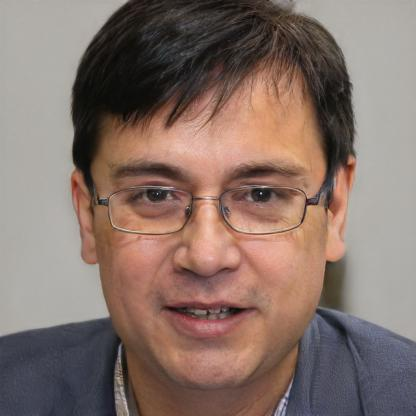glasses: (99, 176, 324, 238)
